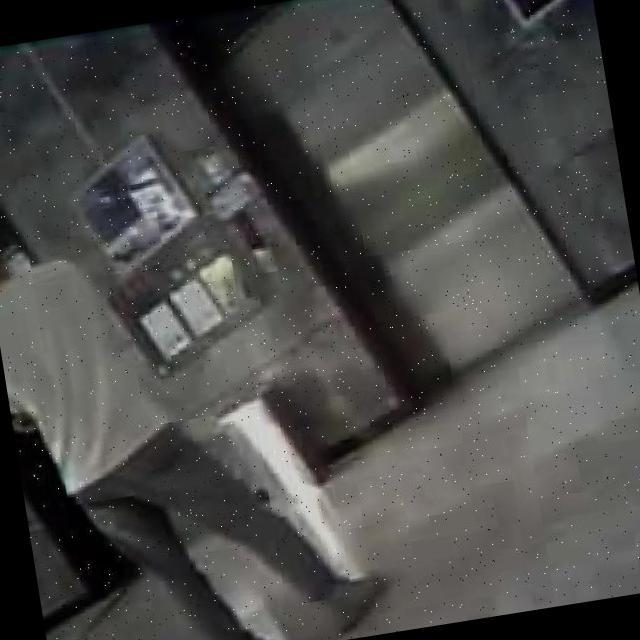person: (0, 170, 383, 640)
